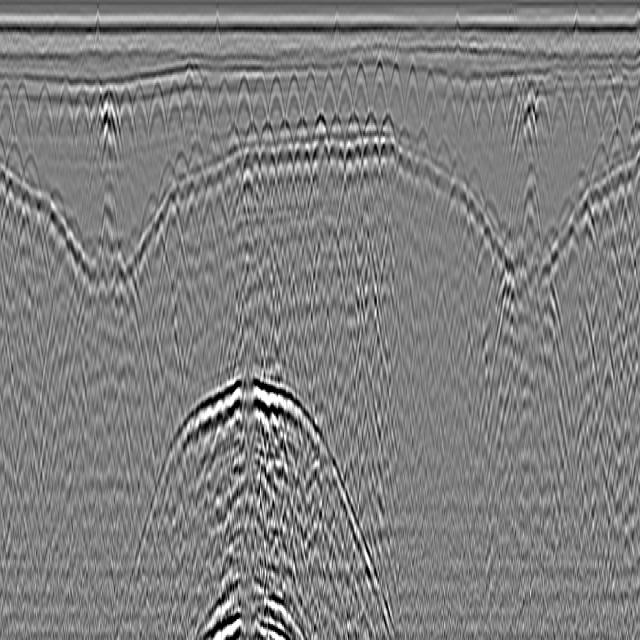hyperbola: (544, 69, 576, 159), (51, 84, 81, 170), (484, 71, 513, 159), (563, 71, 593, 156), (66, 86, 96, 170), (471, 70, 497, 166), (579, 70, 606, 156), (126, 82, 155, 160), (152, 153, 182, 225), (502, 75, 529, 153), (112, 82, 140, 155), (32, 82, 59, 157), (145, 79, 170, 158), (161, 81, 188, 153), (530, 78, 556, 147), (597, 64, 621, 138), (176, 71, 201, 142), (10, 78, 35, 145), (615, 67, 638, 139), (456, 73, 479, 142), (232, 75, 256, 139), (193, 73, 215, 142), (240, 115, 265, 168), (351, 57, 371, 120), (420, 66, 441, 124), (213, 76, 234, 132), (249, 70, 271, 123), (384, 61, 405, 116), (604, 128, 629, 174), (0, 78, 18, 139), (168, 147, 190, 196), (138, 184, 158, 237), (284, 75, 302, 132), (402, 63, 422, 113), (5, 139, 26, 186), (223, 123, 244, 170), (18, 154, 42, 195), (319, 69, 337, 123), (440, 73, 459, 124), (371, 54, 390, 104), (412, 125, 433, 170), (266, 72, 286, 118), (590, 141, 613, 181), (301, 67, 320, 115), (203, 126, 223, 169), (335, 65, 354, 110), (185, 141, 206, 179), (344, 108, 363, 148), (258, 118, 276, 160), (327, 110, 346, 147), (293, 110, 311, 149), (311, 108, 329, 147), (395, 123, 413, 159), (360, 110, 379, 143), (380, 112, 397, 147), (277, 119, 294, 147)
